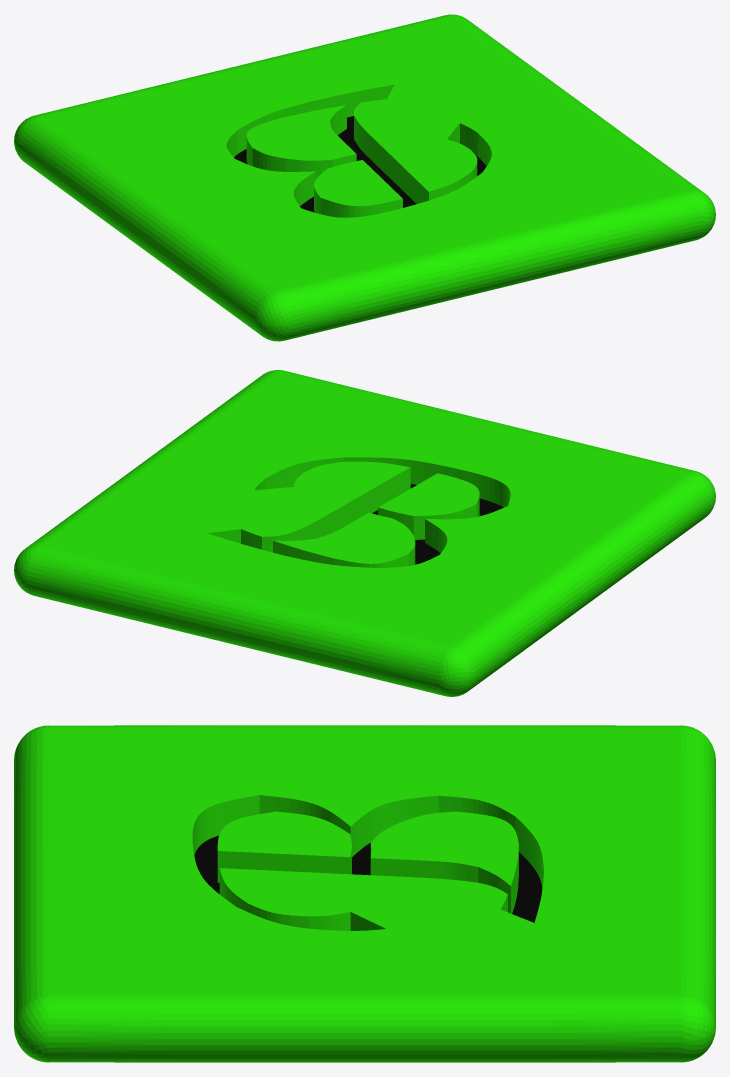
File: tile-B.glb
The picture shows the model from 3 angles, top to bottom: view 1: azimuth 30°, elevation 25°; view 2: azimuth 150°, elevation 25°; view 3: azimuth 270°, elevation 25°; orthographic projection. The views are drawn at different scales.
Visible parts, largest first — view 1: tile-puzzle-B v1; view 2: tile-puzzle-B v1; view 3: tile-puzzle-B v1.
Boxes of the visible parts, <box> form: tile-puzzle-B v1: <box>14,14,715,341</box>; tile-puzzle-B v1: <box>14,370,715,696</box>; tile-puzzle-B v1: <box>14,725,715,1062</box>.
Size of the model in its own units: 40 by 4 by 40.
